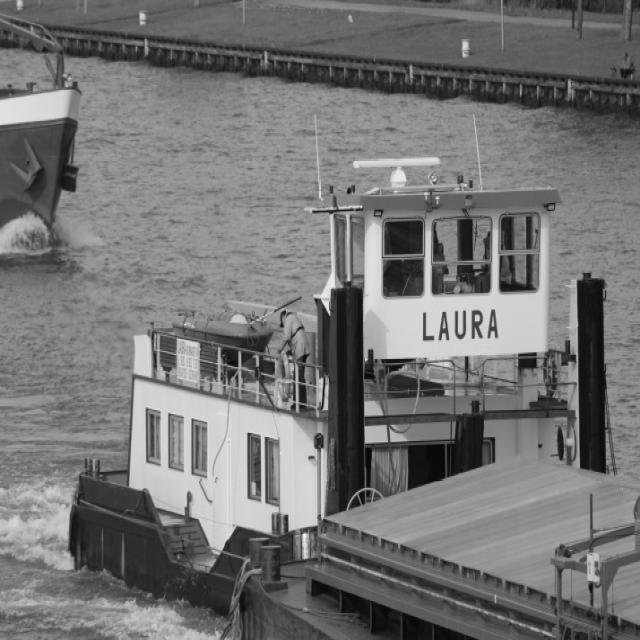tugboat: (59, 150, 614, 640)
